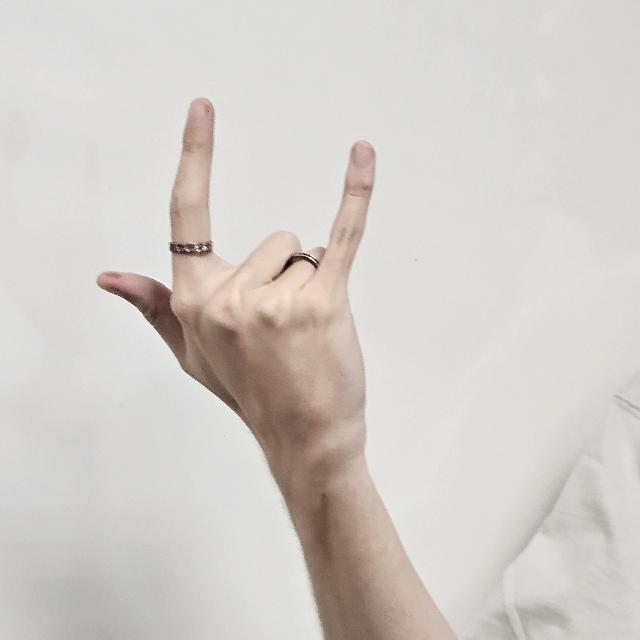Cima: (92, 95, 376, 461)
